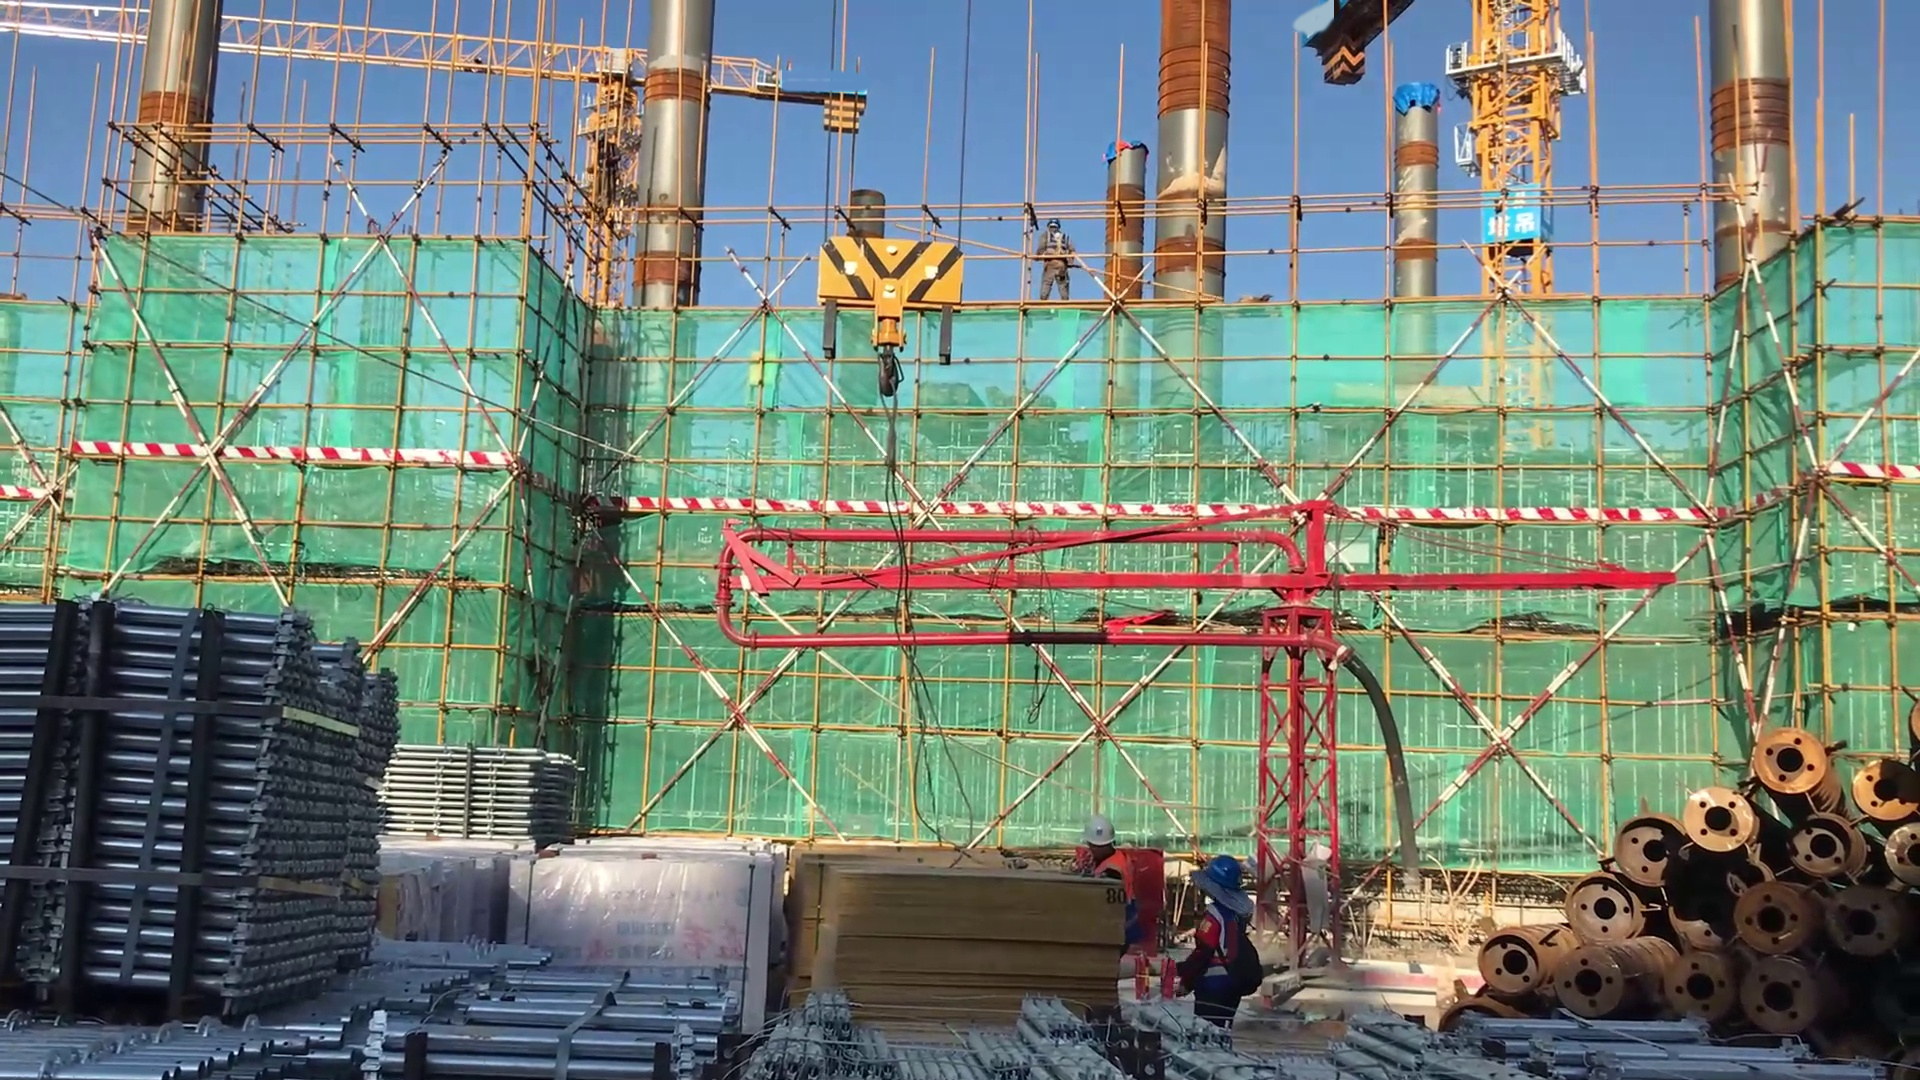board: (788, 847, 1127, 1033)
helmet: (1194, 843, 1251, 897), (1077, 808, 1125, 856), (1043, 216, 1065, 236)
hook: (800, 205, 1006, 442)
person: (1164, 854, 1263, 1043), (1078, 806, 1145, 1009), (1028, 215, 1075, 317)
scaffold: (1, 576, 401, 1013), (1, 937, 529, 1077), (386, 967, 756, 1080), (755, 995, 1121, 1080), (1487, 1006, 1889, 1080), (1154, 1001, 1507, 1080), (369, 735, 597, 846)
slogan: (1481, 187, 1554, 251)
vest: (1195, 898, 1251, 1001), (1094, 852, 1144, 940), (1044, 231, 1070, 263)
